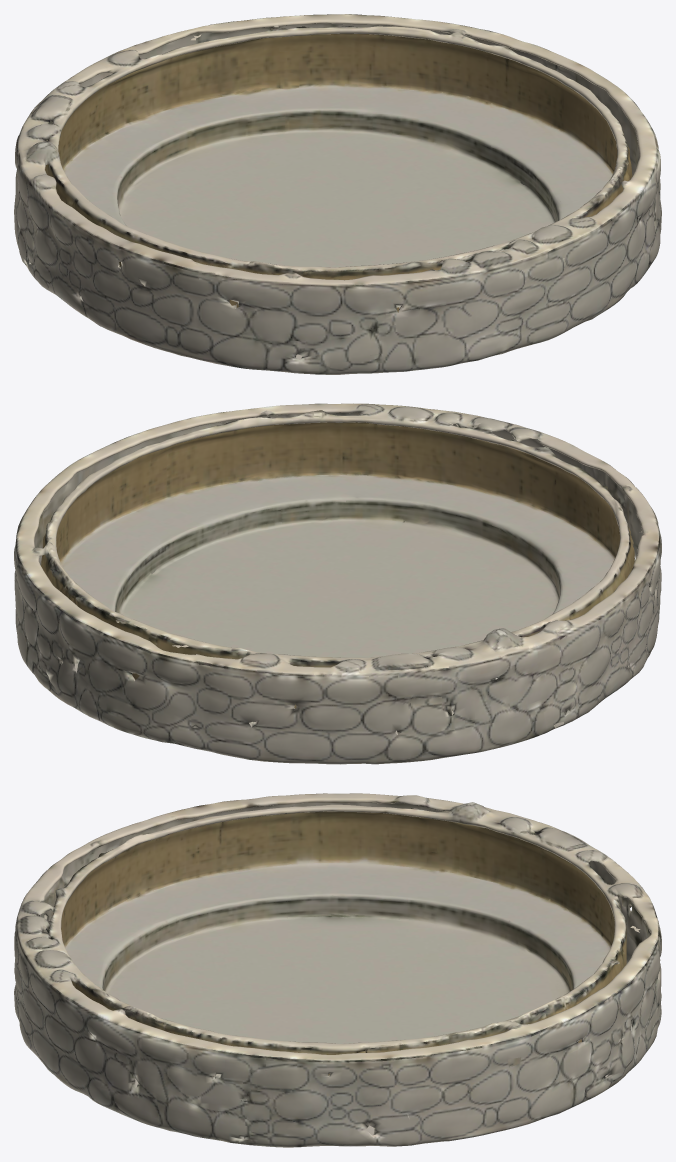
Rendered from tripo_convert_390573f6-8792-4b02-872e-42743d786368.fbx.
The picture shows the model from 3 angles, top to bottom: view 1: azimuth 30°, elevation 25°; view 2: azimuth 150°, elevation 25°; view 3: azimuth 270°, elevation 25°; orthographic projection.
Parts seen in each view (by area): view 1: tripo_node_390573f6; view 2: tripo_node_390573f6; view 3: tripo_node_390573f6.
Boxes of the visible parts, x1,y1,x2,y2 form: tripo_node_390573f6: (14,14,661,374); tripo_node_390573f6: (14,403,661,764); tripo_node_390573f6: (14,793,661,1147).
Size of the model in its own units: 0.9855 by 0.1829 by 0.9996.
Materials: 1 (1 with a texture image).
